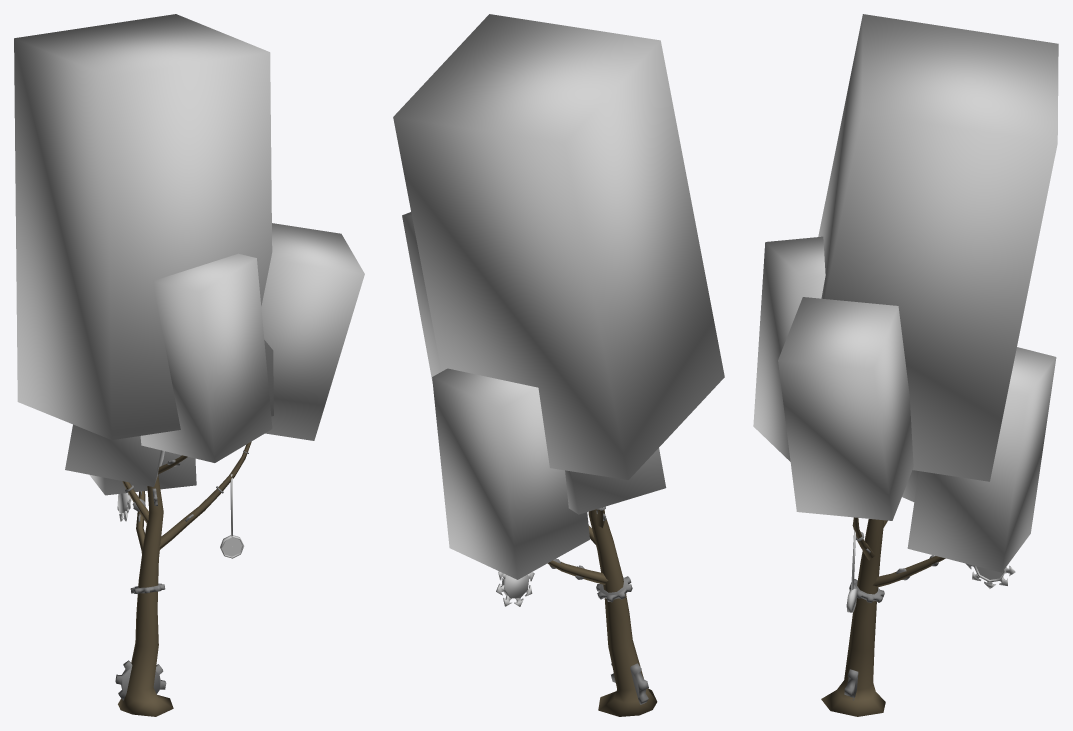
File: sm_tree_clockwork_02_LOD2.fbx
3 renders of one model, left to right at view 1: azimuth 30°, elevation 25°; view 2: azimuth 150°, elevation 25°; view 3: azimuth 270°, elevation 25°, orthographic. The views are drawn at different scales.
Visible parts, largest first — view 1: sm_tree_clockwork_02_LOD2; view 2: sm_tree_clockwork_02_LOD2; view 3: sm_tree_clockwork_02_LOD2.
Part boxes in pixels (left/top/right/bottom): sm_tree_clockwork_02_LOD2: left=14, top=14, right=364, bottom=716; sm_tree_clockwork_02_LOD2: left=393, top=14, right=724, bottom=716; sm_tree_clockwork_02_LOD2: left=753, top=14, right=1058, bottom=716.
Bounding box in the file's own units: 6.62 × 6.15 × 14.97.
